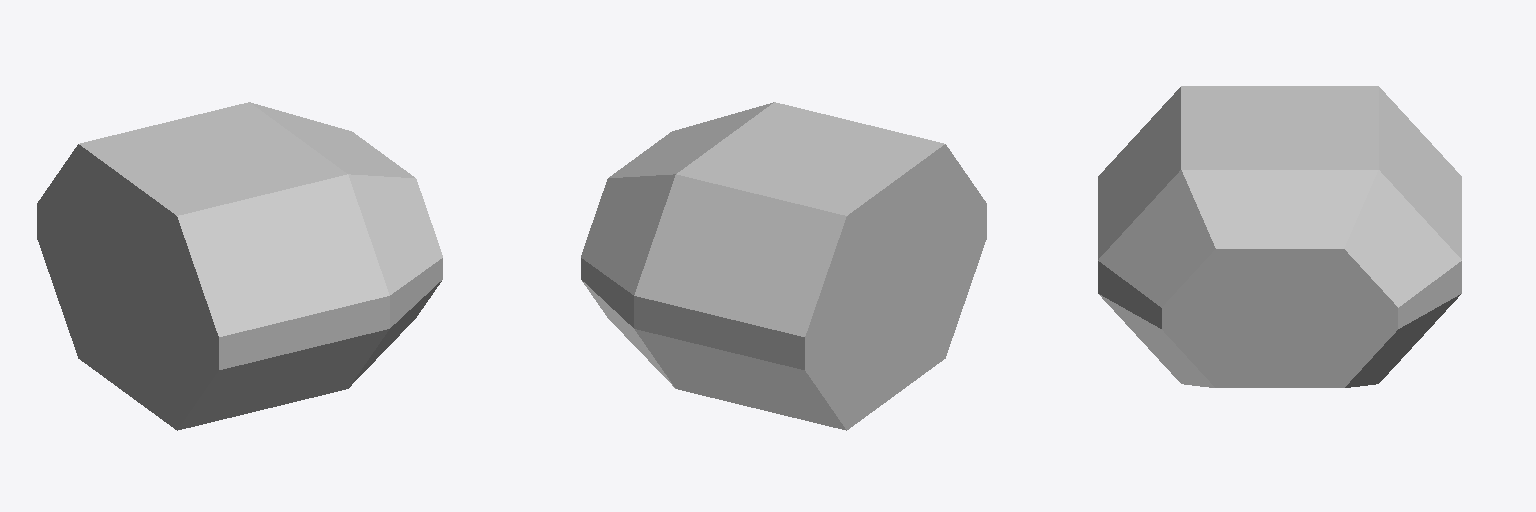
The model's file is Spacestation_Structure_Fuselage_Narrow_Center_Angled.obj.
3 renders of one model, left to right at view 1: azimuth 30°, elevation 25°; view 2: azimuth 150°, elevation 25°; view 3: azimuth 270°, elevation 25°, orthographic.
Visible parts, largest first — view 1: object1; view 2: object1; view 3: object1.
Boxes of the visible parts, x1=… form: object1: x1=37, y1=102, x2=442, y2=430; object1: x1=581, y1=102, x2=986, y2=430; object1: x1=1098, y1=86, x2=1461, y2=387.
Size of the model in its own units: 1.5 by 1.2 by 1.85.